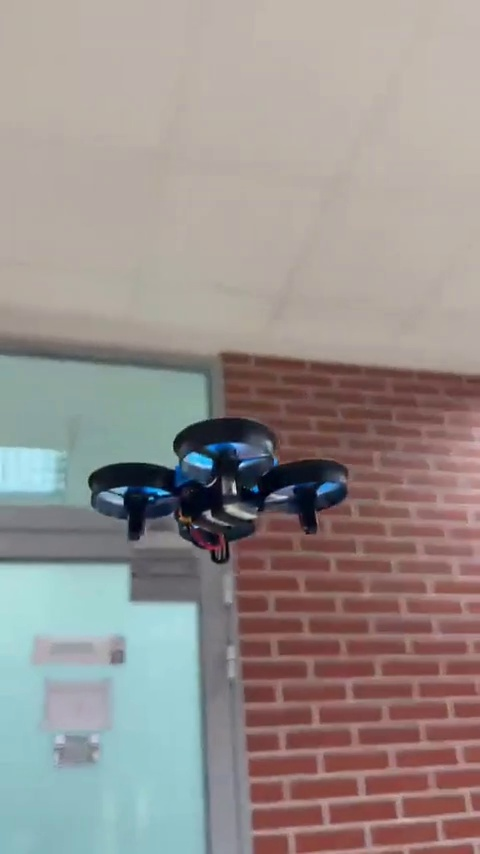drone: (87, 417, 354, 566)
